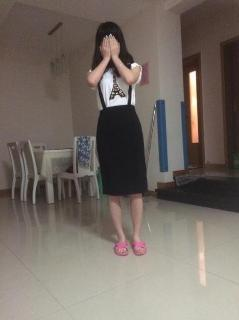sling: (93, 62, 148, 196)
vest dress: (90, 62, 143, 112)
